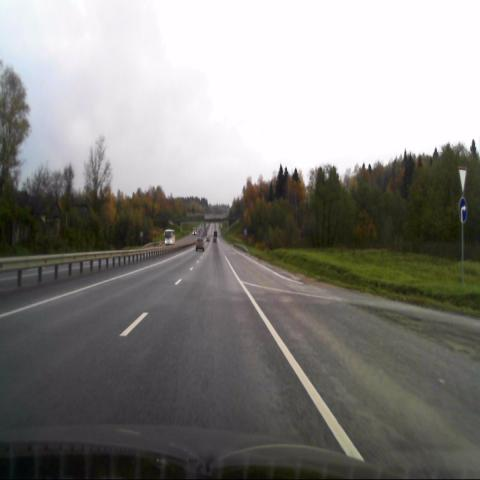2_4: (457, 167, 467, 193)
4_1_2: (458, 197, 468, 224)
